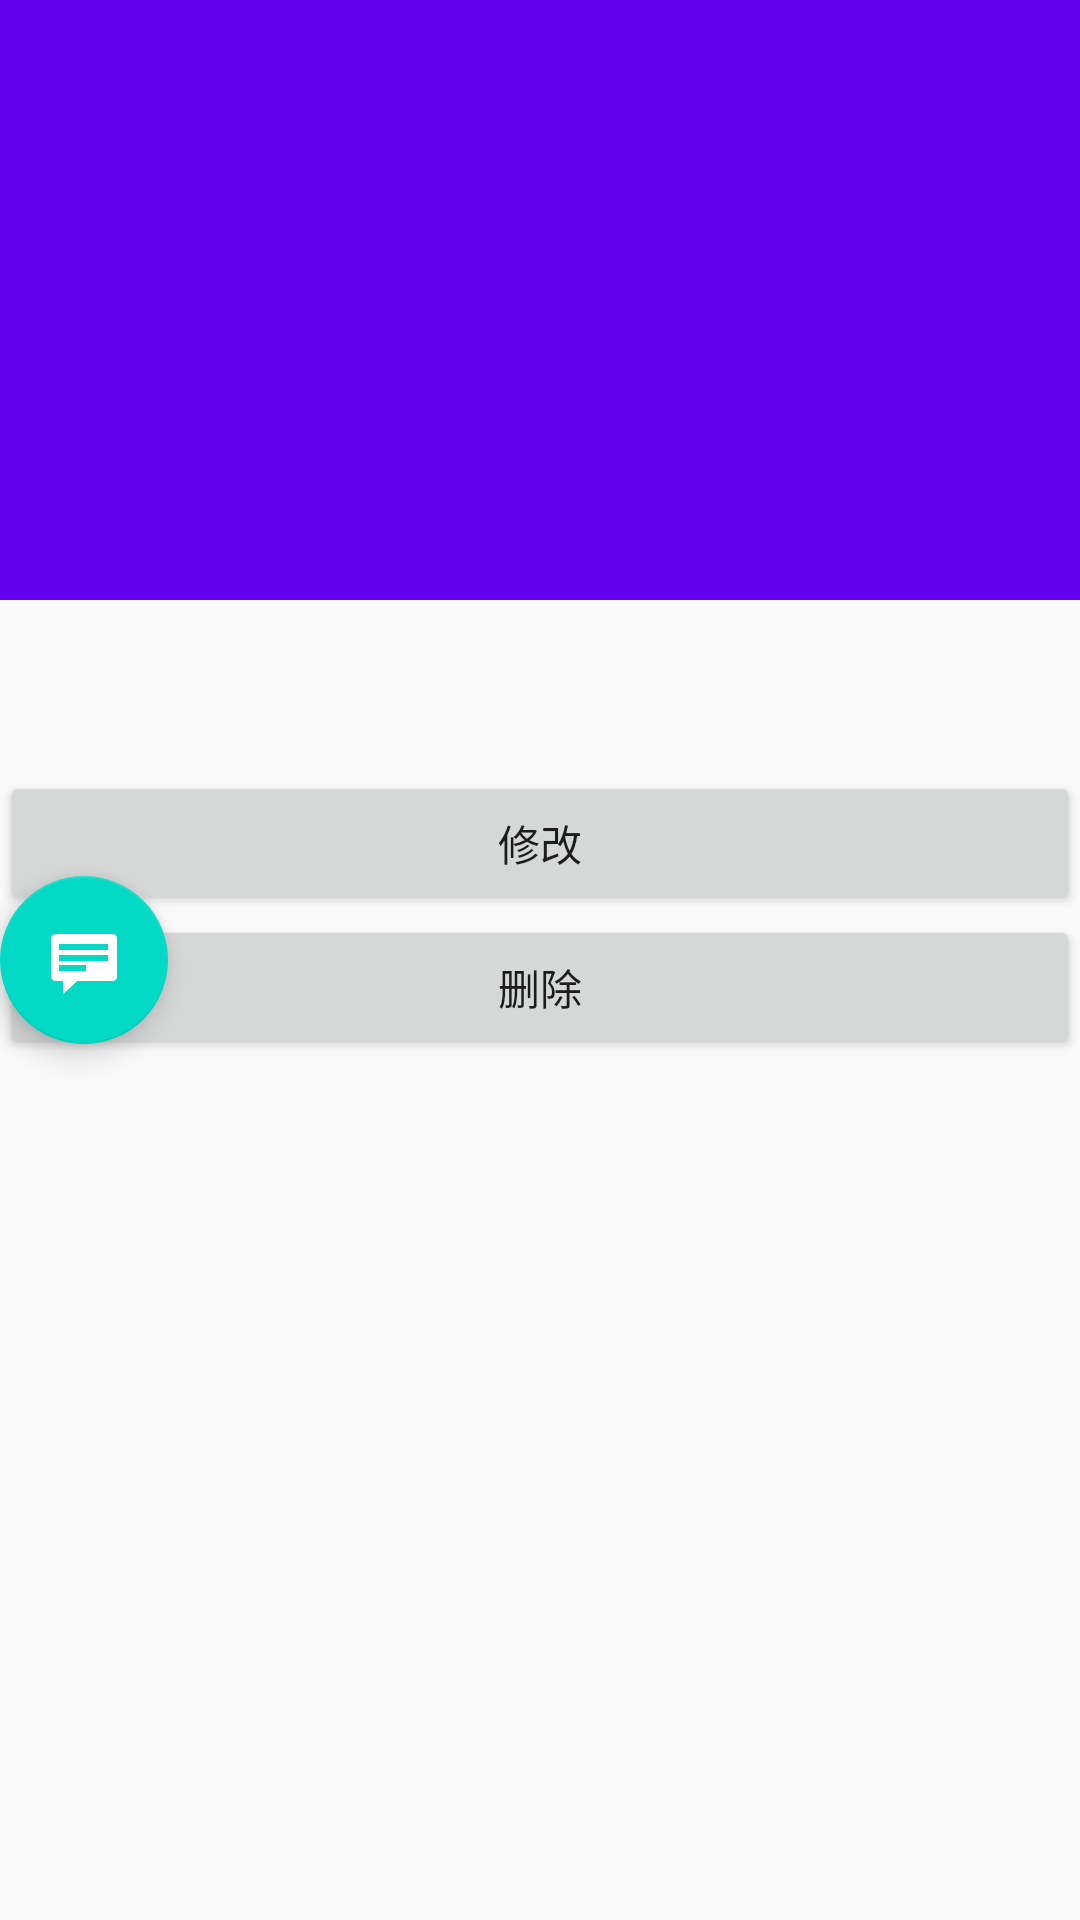

Icon click points for this 1080px x 1920px phone screenshot, format (x,y):
chat: (84,960)
